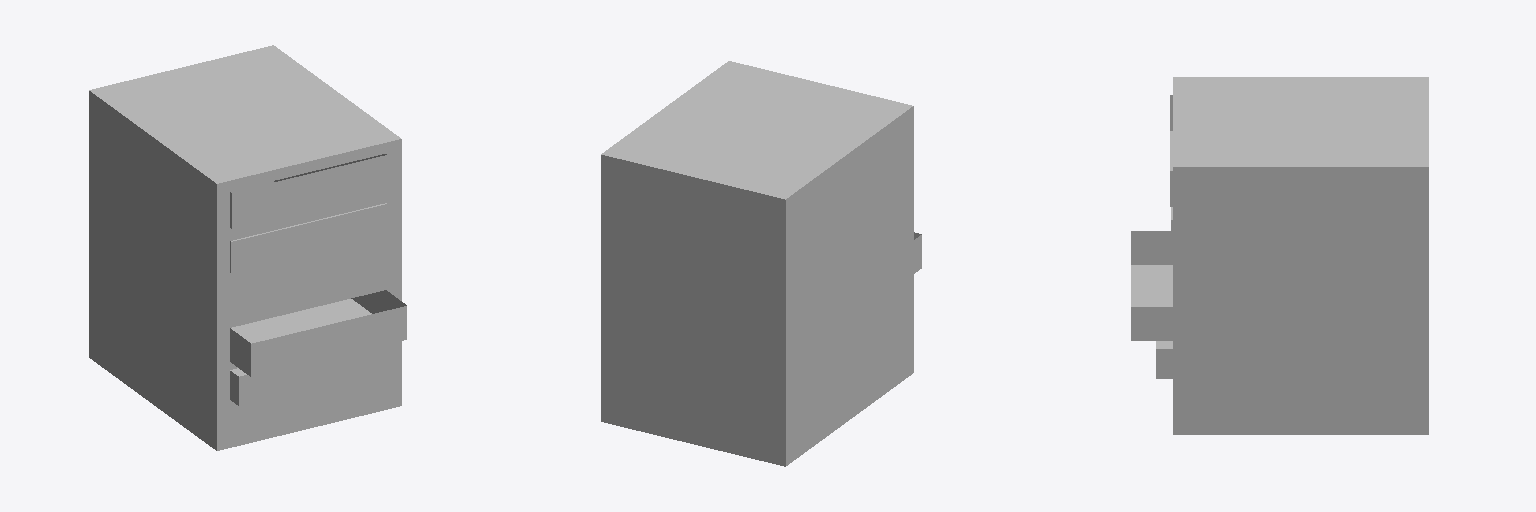
Rendered from classeur.obj.
The picture shows the model from 3 angles: view 1: azimuth 30°, elevation 25°; view 2: azimuth 150°, elevation 25°; view 3: azimuth 270°, elevation 25°; orthographic projection.
Bounding box in the file's own units: 1.25 × 1.73 × 1.75.